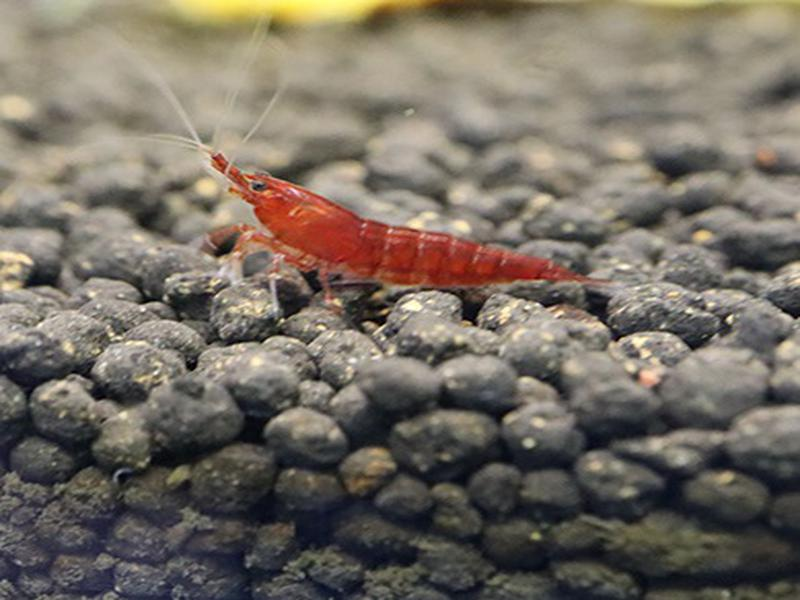shrimp: (207, 150, 606, 285), (210, 150, 607, 282)
